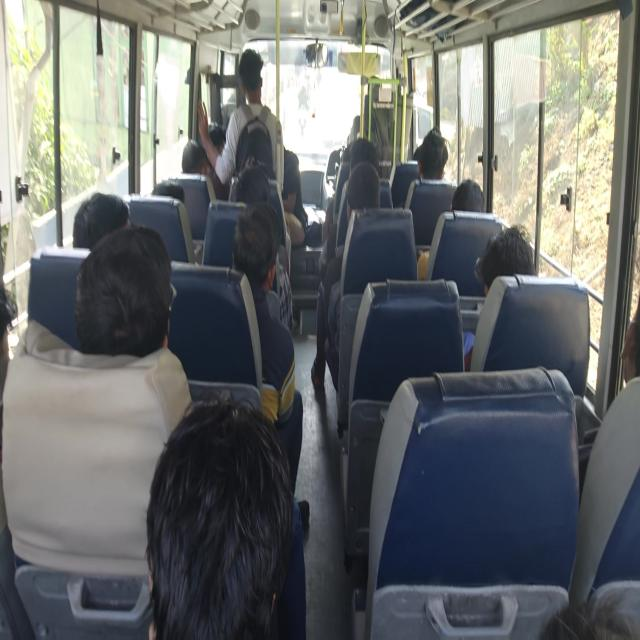person: (164, 400, 373, 640), (86, 238, 186, 434), (468, 228, 553, 320), (273, 131, 318, 280), (601, 282, 640, 426), (232, 207, 288, 275), (74, 199, 136, 251), (343, 167, 382, 225), (340, 135, 385, 178), (422, 132, 456, 181), (175, 146, 222, 181), (232, 176, 283, 207), (156, 167, 186, 215), (452, 180, 486, 218), (200, 128, 237, 162), (236, 78, 269, 114), (240, 150, 271, 172), (410, 146, 431, 172)
